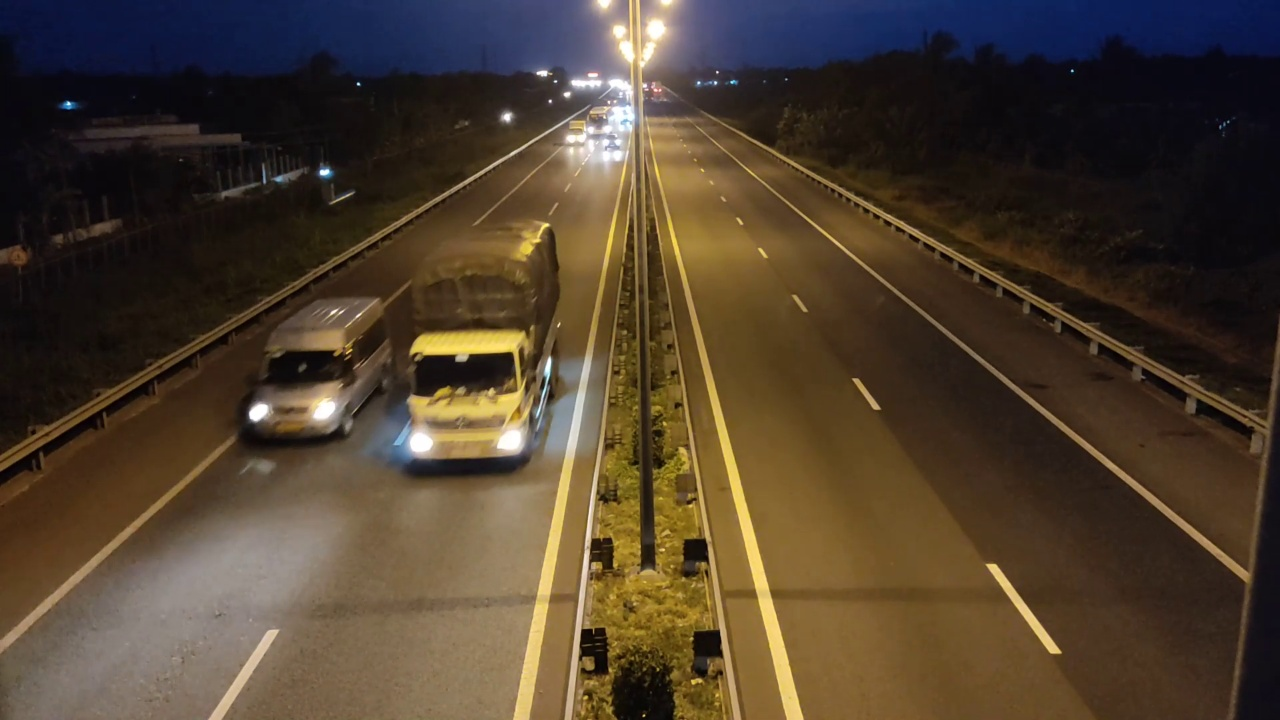car: (243, 292, 387, 450)
truck: (403, 217, 563, 473)
